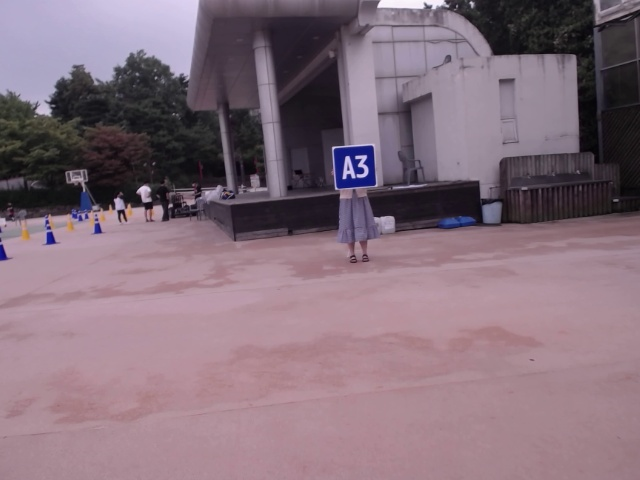delivery_a3: (332, 145, 377, 190)
